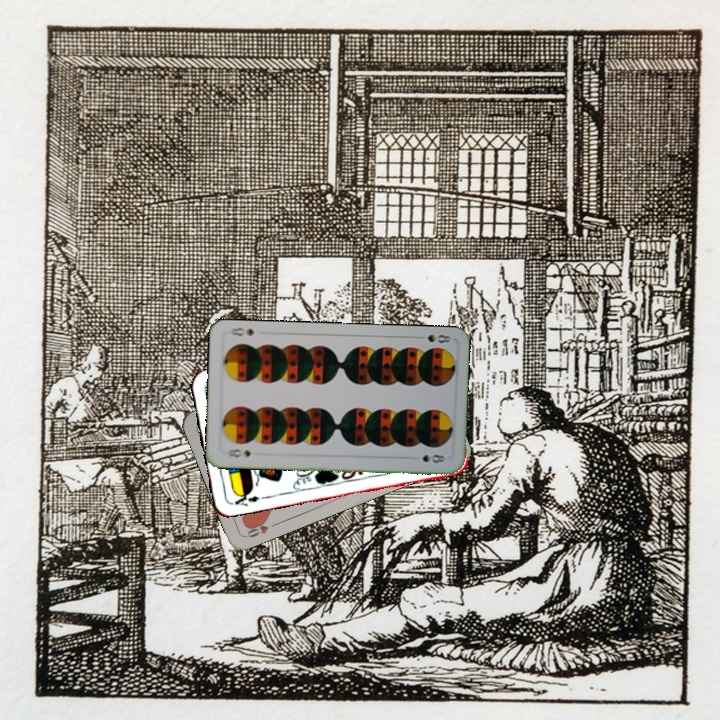EA: (227, 488, 262, 509)
HO: (242, 515, 281, 540)
S8: (413, 330, 453, 345), (224, 445, 253, 460)
